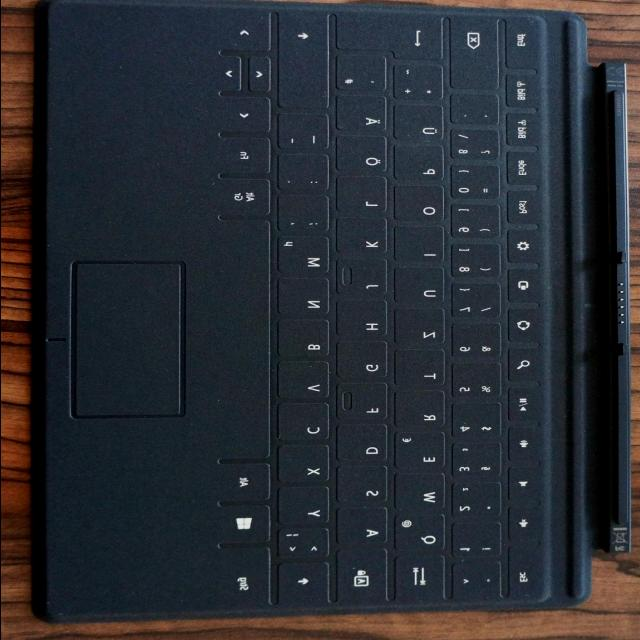0: (450, 166, 503, 202)
1: (451, 523, 503, 559)
2: (451, 482, 505, 520)
3: (452, 444, 505, 480)
4: (451, 403, 503, 439)
5: (453, 364, 505, 400)
6: (452, 324, 504, 361)
7: (451, 284, 503, 320)
8: (451, 245, 504, 280)
9: (450, 205, 503, 240)
a: (337, 508, 391, 546)
accent: (451, 95, 503, 127)
ae: (336, 96, 390, 133)
alt-left: (220, 464, 274, 504)
altgr-right: (218, 179, 274, 220)
b: (277, 320, 332, 360)
c: (277, 403, 332, 443)
caret: (452, 562, 504, 601)
comma: (277, 196, 332, 234)
d: (335, 425, 389, 463)
del: (449, 17, 503, 91)
e: (395, 433, 449, 472)
enter: (335, 14, 443, 60)
f: (337, 383, 391, 421)
g: (337, 342, 391, 380)
h: (336, 301, 390, 340)
hash: (336, 56, 390, 92)
i: (395, 228, 447, 264)
j: (337, 259, 391, 297)
k: (336, 218, 390, 255)
keyboard: (207, 8, 567, 616)
l: (336, 178, 390, 215)
less: (277, 530, 333, 561)
m: (276, 237, 333, 276)
minus: (277, 115, 333, 152)
n: (278, 280, 332, 318)
o: (393, 187, 447, 225)
oe: (335, 137, 390, 174)
p: (394, 146, 447, 183)
plus: (393, 65, 447, 102)
point: (279, 154, 333, 193)
q: (394, 515, 449, 557)
r: (394, 389, 448, 428)
s: (337, 467, 391, 504)
shift-left: (277, 563, 331, 608)
shift-lock: (334, 549, 388, 606)
shift-right: (277, 12, 333, 112)
space: (216, 220, 271, 462)
ss: (450, 131, 503, 163)
strg-left: (215, 547, 273, 607)
t: (395, 350, 449, 389)
tab: (393, 557, 449, 605)
u: (393, 268, 447, 306)
ue: (393, 106, 447, 144)
v: (278, 362, 332, 401)
w: (395, 475, 449, 514)
x: (277, 446, 332, 485)
y: (277, 487, 332, 526)
z: (394, 309, 448, 347)
